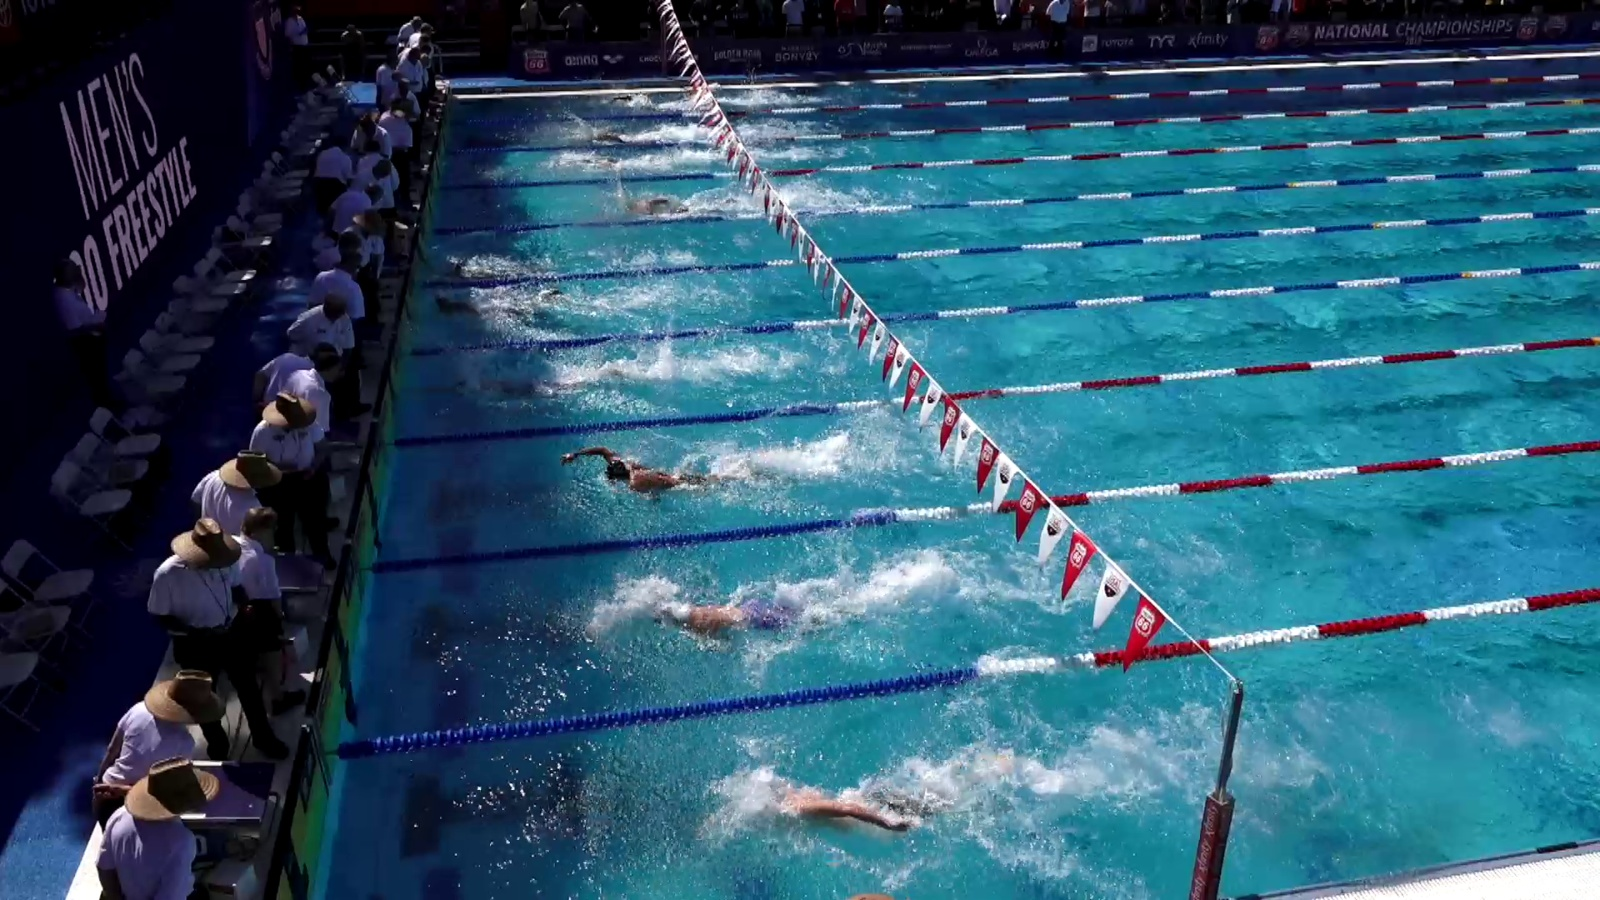swimmerw: (633, 581, 841, 655), (562, 441, 779, 497), (738, 780, 967, 831), (490, 368, 637, 412), (434, 289, 543, 321), (433, 258, 511, 281), (616, 193, 700, 213), (576, 156, 645, 173), (612, 95, 665, 109), (591, 133, 651, 145)
